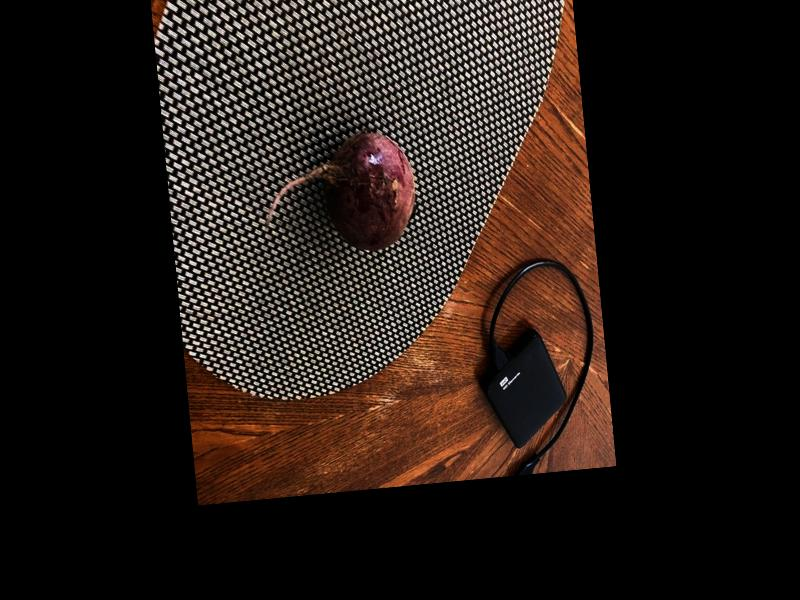Beet: (257, 128, 419, 259)
